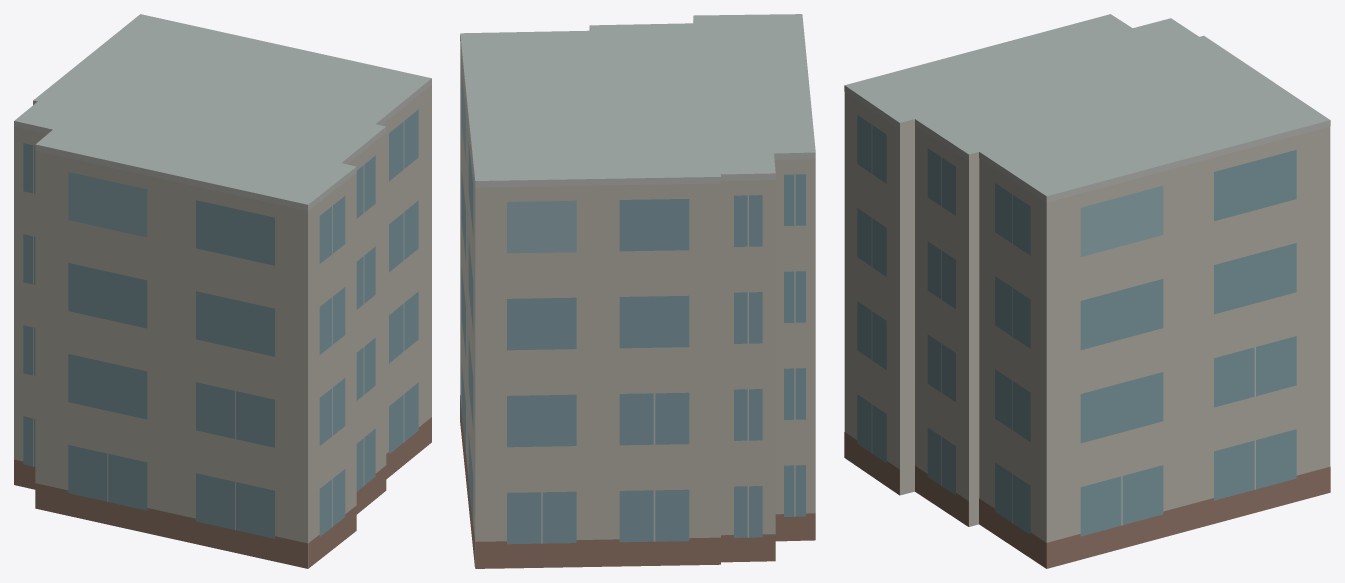
The model's file is survey-upis-32597999.glb.
The picture shows the model from 3 angles, left to right: view 1: azimuth 30°, elevation 25°; view 2: azimuth 150°, elevation 25°; view 3: azimuth 270°, elevation 25°; orthographic projection. The views are drawn at different scales.
Parts seen in each view (by area): view 1: survey-upis-32597999.tmp; view 2: survey-upis-32597999.tmp; view 3: survey-upis-32597999.tmp.
Part boxes in pixels (<box>): survey-upis-32597999.tmp: <box>14,14,431,568</box>; survey-upis-32597999.tmp: <box>460,14,815,568</box>; survey-upis-32597999.tmp: <box>844,14,1330,568</box>.
Bounding box in the file's own units: 15.12 × 14.4 × 17.03.
